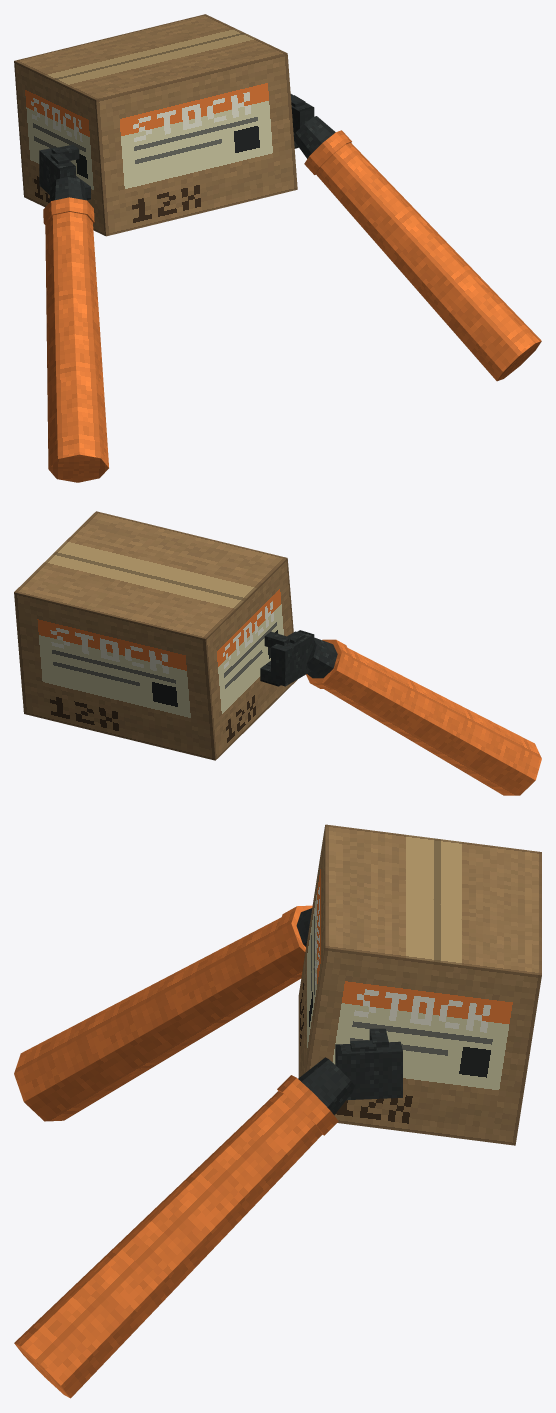
Rendered from vm_stock_box.glb.
3 views of the same model, one above another, from view 1: azimuth 30°, elevation 25°; view 2: azimuth 150°, elevation 25°; view 3: azimuth 270°, elevation 25° (orthographic). The views are drawn at different scales.
Parts seen in each view (by area): view 1: Item, Arms; view 2: Item, Arms; view 3: Item, Arms.
Boxes of the visible parts, x1,y1,x2,y2 form: Item: (14,14,297,236); Arms: (39,94,541,482); Item: (14,511,297,760); Arms: (260,630,541,795); Item: (298,824,541,1145); Arms: (14,905,402,1398).
Bounding box in the file's own units: 1.02 × 0.5621 × 0.7236.
Materials: 3 (3 with a texture image).
